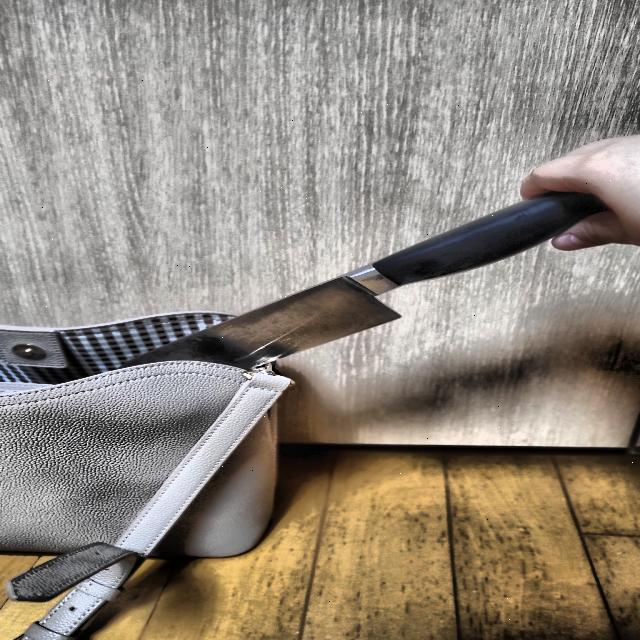knife: (132, 187, 611, 367)
